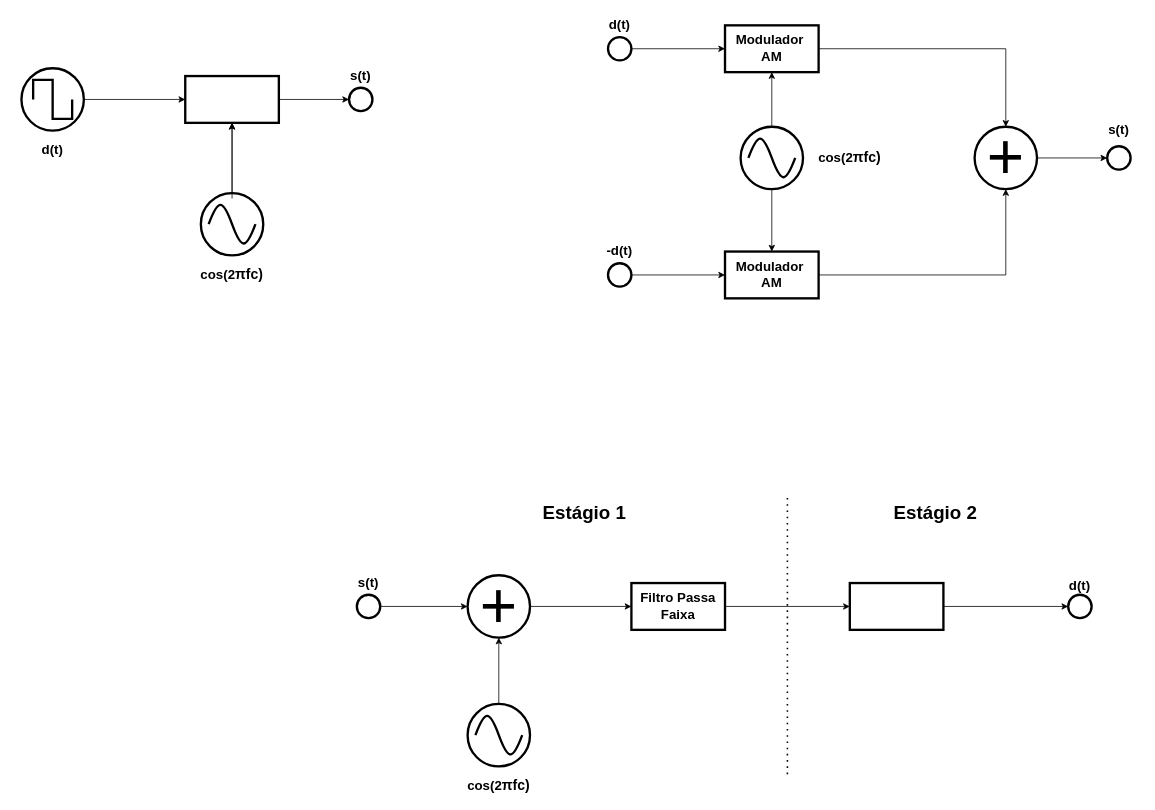
Image size: 1155x810. Some labels were removed from this diagram. Each missing label, with the box of its shape:
Detector de bit: (848, 581, 944, 631)
Modulador Balanceado: (184, 74, 280, 124)
